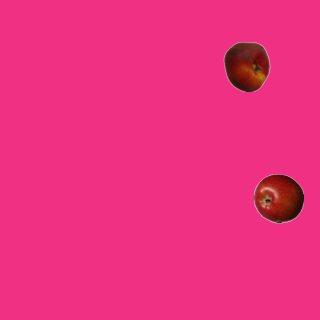Apple Braeburn: (253, 173, 303, 223)
Nectarine Flat: (221, 41, 271, 91)
